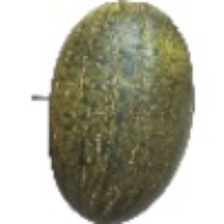honeydew: (29, 8, 218, 209)
